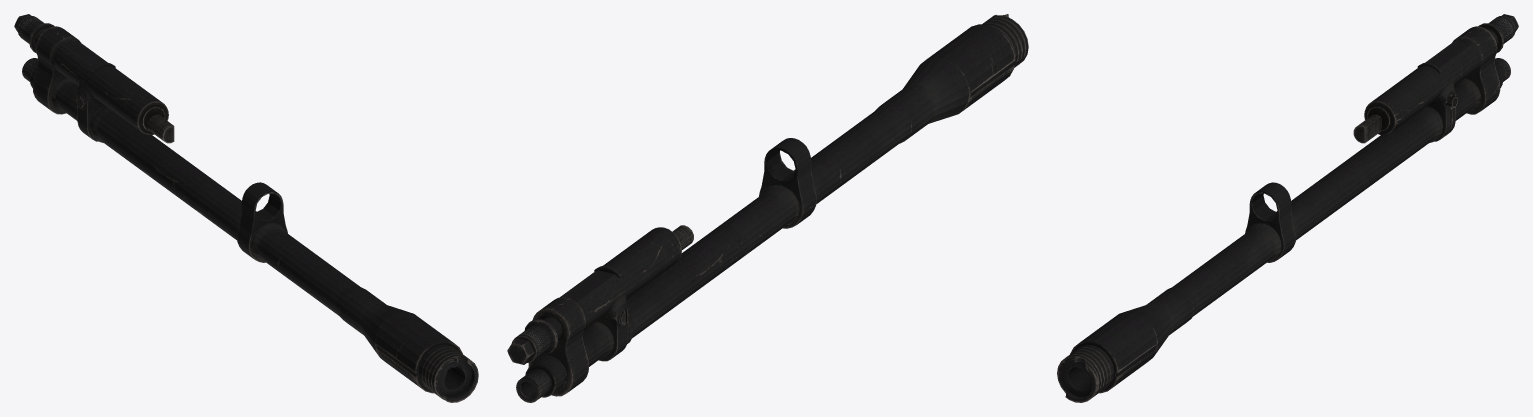
3 views of the same model, side by side, from view 1: azimuth 30°, elevation 25°; view 2: azimuth 150°, elevation 25°; view 3: azimuth 330°, elevation 25° (orthographic). The views are drawn at different scales.
Visible parts, largest first — view 1: TW_5aaf9d53e5b5b00015042a52_PZ_Import; view 2: TW_5aaf9d53e5b5b00015042a52_PZ_Import; view 3: TW_5aaf9d53e5b5b00015042a52_PZ_Import.
Part boxes in pixels (bbox=[...]): TW_5aaf9d53e5b5b00015042a52_PZ_Import: bbox=[14, 14, 478, 402]; TW_5aaf9d53e5b5b00015042a52_PZ_Import: bbox=[507, 14, 1028, 402]; TW_5aaf9d53e5b5b00015042a52_PZ_Import: bbox=[1057, 14, 1518, 402].
Size of the model in its own units: 0.0168 by 0.2584 by 0.0272.
Materials: 1 (1 with a texture image).
